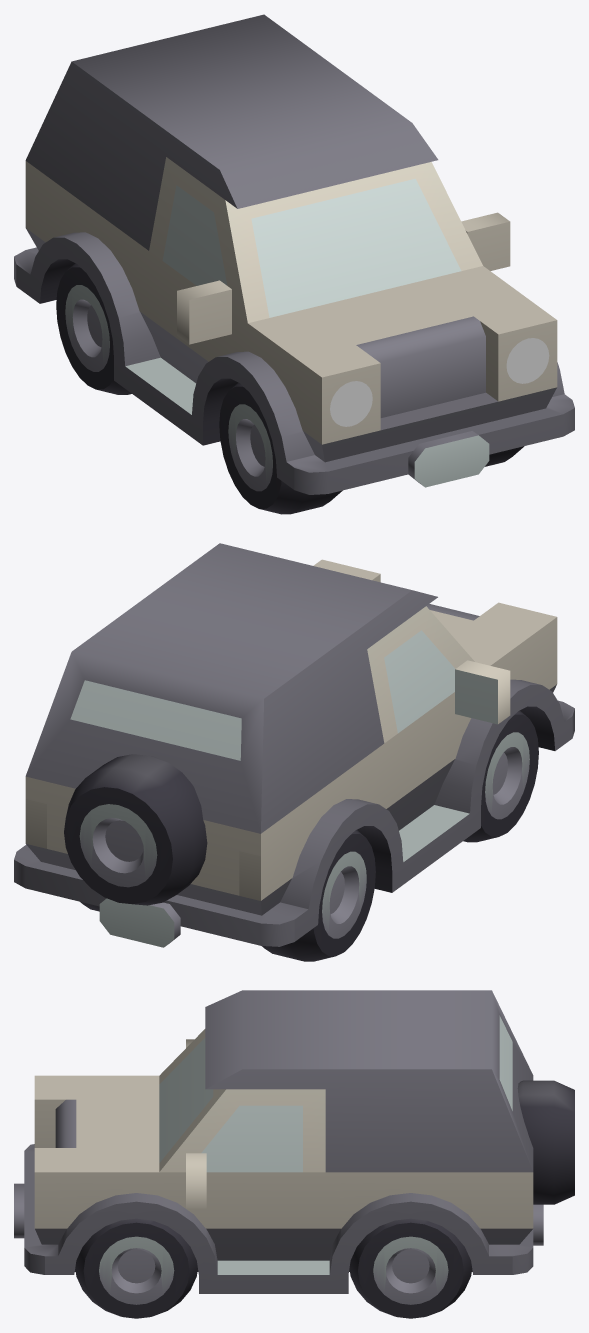
Rendered from car_cream.glb.
The picture shows the model from 3 angles, top to bottom: view 1: azimuth 30°, elevation 25°; view 2: azimuth 150°, elevation 25°; view 3: azimuth 270°, elevation 25°; orthographic projection. The views are drawn at different scales.
Parts seen in each view (by area): view 1: car_cream; view 2: car_cream; view 3: car_cream.
Part boxes in pixels (x1,y1,x2,y2): car_cream: (14, 14, 574, 514); car_cream: (14, 543, 574, 961); car_cream: (14, 990, 574, 1318).
Bounding box in the file's own units: 1.5 × 1.3 × 2.7.
